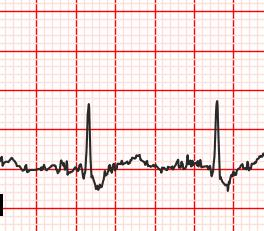ST Depression: (80, 158, 114, 194), (210, 159, 239, 194)
